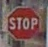stop: (5, 5, 40, 40)
